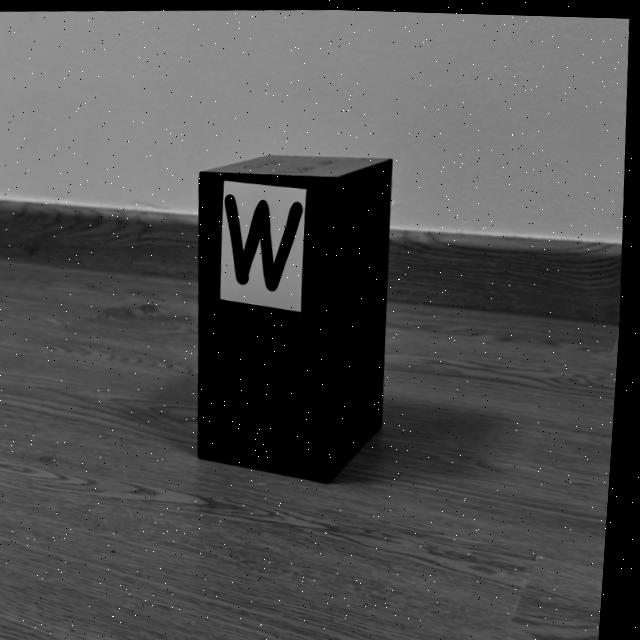W: (227, 193, 304, 288)
